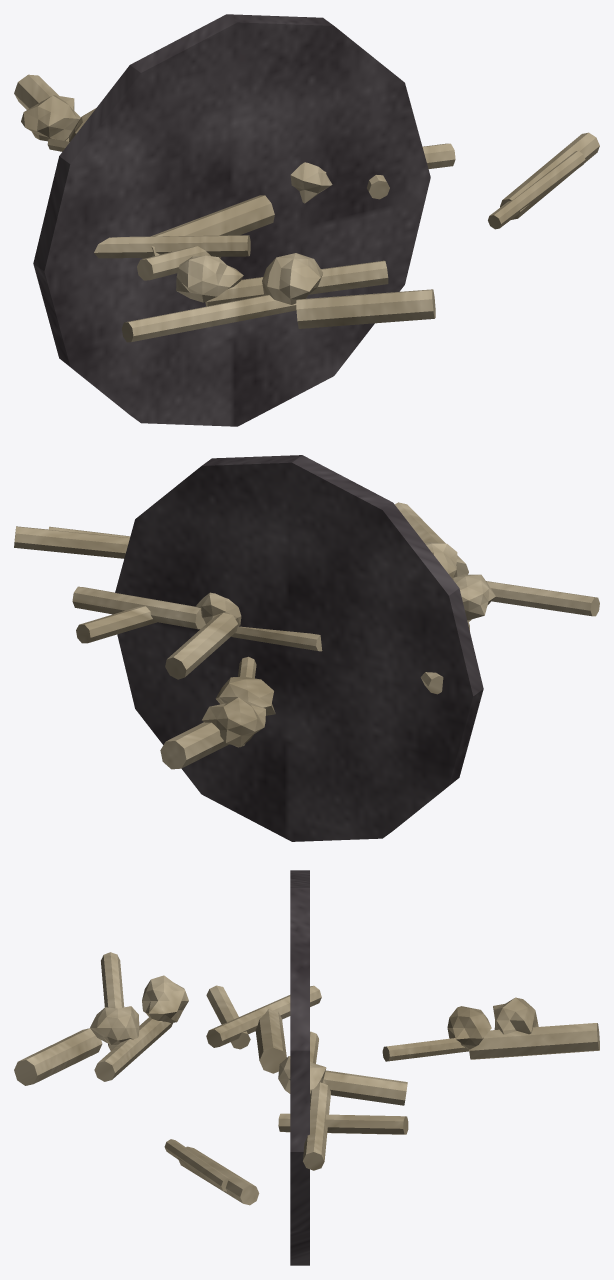
File: 0247_bone_heap_22.glb
3 renders of one model, top to bottom at view 1: azimuth 30°, elevation 25°; view 2: azimuth 150°, elevation 25°; view 3: azimuth 270°, elevation 25°, orthographic. The views are drawn at different scales.
Visible parts, largest first — view 1: ash, bone; view 2: ash, bone; view 3: bone, ash.
Boxes of the visible parts, x1,y1,x2,y2 form: ash: (33,14,430,426); bone: (14,74,599,342); ash: (115,455,483,841); bone: (14,502,599,769); bone: (14,952,599,1205); ash: (290,870,309,1265).
Size of the model in its own units: 2.26 by 1.6 by 2.36.
2 materials, 2 textured.
